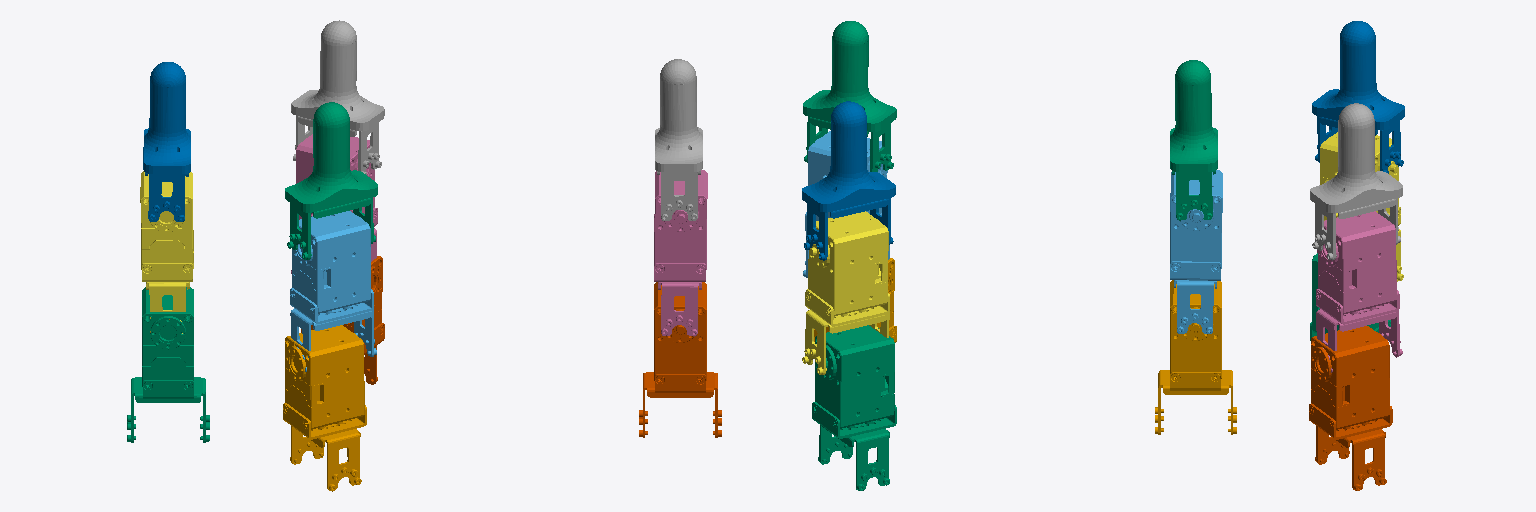
The robot description file, URDF, robot "dclaw_gripper":
<?xml version='1.0' encoding='utf-8'?>
<robot name="dclaw_gripper">
  <mujoco>
    <compiler balanceinertia="true" discardvisual="false" fusestatic="false" inertiafromgeom="false" />
  </mujoco>
  <link name="hand_root" />
  <joint name="hand_root_joint" type="fixed">
    <parent link="hand_root" />
    <child link="base_link" />
    <origin xyz="0 0 0" rpy="0 -1.57079 0" />
  </joint>
  <link name="base_link">
    <inertial>
      <origin xyz="0.0061371 0.00092103 0.0001376" rpy="0 0 0" />
      <mass value="0.23695" />
      <inertia ixx="0.00032097" ixy="-6.6887E-18" ixz="1.9851E-17" iyy="0.00016917" iyz="-1.3585E-07" izz="0.00016932" />
    </inertial>
    <visual name="base_link_base_link_visual">
      <origin xyz="0 0 0" rpy="0 0 0" />
      <geometry>
        <mesh filename="meshes/visual/base_link.obj" />
      </geometry>
    </visual>
    <collision>
      <origin xyz="0 0 0" rpy="0 0 0" />
      <geometry>
        <mesh filename="meshes/collision/base_link_cylinder_collision000.obj" />
      </geometry>
    </collision>
    <collision>
      <origin xyz="0.013 -0.059 -0.012" rpy="0 0 0" />
      <geometry>
        <box size="0.026 0.04 0.05" />
      </geometry>
    </collision>
    <collision>
      <origin xyz="0.013 0.02 0.058" rpy="1.0472 0 0" />
      <geometry>
        <box size="0.026 0.04 0.05" />
      </geometry>
    </collision>
    <collision>
      <origin xyz="0.013 0.042 -0.045" rpy="-1.0472 0 0" />
      <geometry>
        <box size="0.026 0.04 0.05" />
      </geometry>
    </collision>
  </link>
  <link name="link_f1_1">
    <inertial>
      <origin xyz="0.052937980145625 -0.00497139258776 -0.000694027511673134" rpy="0 0 0" />
      <mass value="0.0500997884944125" />
      <inertia ixx="8.46910401400073E-06" ixy="-5.59186721204179E-09" ixz="8.65556909015113E-12" iyy="1.16900209784881E-05" iyz="1.71650076915383E-09" izz="1.27968151742208E-05" />
    </inertial>
    <visual name="link_f1_1_link_1_visual">
      <origin xyz="0 0 0" rpy="0 0 0" />
      <geometry>
        <mesh filename="meshes/visual/link_1.obj" />
      </geometry>
    </visual>
    <collision>
      <origin xyz="0.05 -0.005 0" rpy="0 0 0" />
      <geometry>
        <box size="0.058 0.038 0.03" />
      </geometry>
    </collision>
    <collision>
      <origin xyz="0.013 -0.005 -0.018" rpy="0 0 0" />
      <geometry>
        <box size="0.03 0.024 0.01" />
      </geometry>
    </collision>
    <collision>
      <origin xyz="0.013 -0.005 0.018" rpy="0 0 0" />
      <geometry>
        <box size="0.03 0.024 0.01" />
      </geometry>
    </collision>
  </link>
  <joint name="joint_f1_0" type="revolute">
    <origin xyz="0.013836 0.026467 0.054269" rpy="2.618 0 0" />
    <parent link="base_link" />
    <child link="link_f1_1" />
    <axis xyz="0 -0.0015509 -1" />
    <limit lower="-0.524" upper="1.32" effort="10" velocity="100" />
  </joint>
  <link name="link_f1_2">
    <inertial>
      <origin xyz="0.0529346131214272 4.20660206008894E-05 -0.000658948595449904" rpy="0 0 0" />
      <mass value="0.0500997884943922" />
      <inertia ixx="8.46982892599337E-06" ixy="-7.79200381419549E-10" ixz="6.12478914527945E-08" iyy="1.10964732933152E-05" iyz="3.79402169890053E-09" izz="1.33896379473968E-05" />
    </inertial>
    <visual name="link_f1_2_link_2_visual">
      <origin xyz="0 0 0" rpy="0 0 0" />
      <geometry>
        <mesh filename="meshes/visual/link_2.obj" />
      </geometry>
    </visual>
    <collision>
      <origin xyz="0.05 0 0" rpy="0 0 0" />
      <geometry>
        <box size="0.058 0.036 0.03" />
      </geometry>
    </collision>
    <collision>
      <origin xyz="0.013 0.018 0" rpy="0 0 0" />
      <geometry>
        <box size="0.03 0.01 0.024" />
      </geometry>
    </collision>
    <collision>
      <origin xyz="0.013 -0.018 0" rpy="0 0 0" />
      <geometry>
        <box size="0.03 0.01 0.024" />
      </geometry>
    </collision>
  </link>
  <joint name="joint_f1_1" type="revolute">
    <origin xyz="0.068497840506843 -0.00447059066166425 -0.00069480419720909" rpy="0 0 0" />
    <parent link="link_f1_1" />
    <child link="link_f1_2" />
    <axis xyz="-0.00794039679013064 0.999967271990909 -0.00155082103229942" />
    <limit lower="-1.57" upper="1.57" effort="10" velocity="100" />
  </joint>
  <link name="link_f1_3">
    <inertial>
      <origin xyz="0.0442887582746113 0.00035235906135242 0.000434933008497021" rpy="0 0 0" />
      <mass value="0.0260028968487658" />
      <inertia ixx="3.47806502125481E-06" ixy="-2.95890268825293E-08" ixz="-5.11685971410778E-08" iyy="7.19387269621039E-06" iyz="1.90796366800334E-09" izz="8.68619204396781E-06" />
    </inertial>
    <visual name="link_f1_3_link_3_visual">
      <origin xyz="0 0 0" rpy="0 0 0" />
      <geometry>
        <mesh filename="meshes/visual/link_3.obj" />
      </geometry>
    </visual>
    <collision>
      <origin xyz="0 0 0" rpy="0 0 0" />
      <geometry>
        <mesh filename="meshes/collision/finger_tip_collision000.obj" />
      </geometry>
    </collision>
    <collision>
      <origin xyz="0.013 0.018 0" rpy="0 0 0" />
      <geometry>
        <box size="0.03 0.01 0.024" />
      </geometry>
    </collision>
    <collision>
      <origin xyz="0.013 -0.018 0" rpy="0 0 0" />
      <geometry>
        <box size="0.03 0.01 0.024" />
      </geometry>
    </collision>
  </link>
  <joint name="joint_f1_2" type="revolute">
    <origin xyz="0.0684925346596223 0.000542552150630676 -0.000853424316918899" rpy="0 0 0" />
    <parent link="link_f1_2" />
    <child link="link_f1_3" />
    <axis xyz="0.00794039679012981 -0.999967271990909 0.00155082103230192" />
    <limit lower="-1.57" upper="1.57" effort="10" velocity="100" />
  </joint>
  <link name="link_f2_1">
    <inertial>
      <origin xyz="0.0529366186747865 0.0029920957103855 -0.000173411779378921" rpy="0 0 0" />
      <mass value="0.0500997884947374" />
      <inertia ixx="8.46930770326436E-06" ixy="-2.62162459895352E-08" ixz="4.06413156611164E-11" iyy="1.16898172897379E-05" iyz="1.71681653411011E-09" izz="1.27968151737415E-05" />
    </inertial>
    <visual name="link_f2_1_link_1_visual">
      <origin xyz="0 0.008 0" rpy="0 0 0" />
      <geometry>
        <mesh filename="meshes/visual/link_1.obj" />
      </geometry>
    </visual>
    <collision>
      <origin xyz="0.05 0.003 0" rpy="0 0 0" />
      <geometry>
        <box size="0.058 0.038 0.03" />
      </geometry>
    </collision>
    <collision>
      <origin xyz="0.013 0.003 -0.018" rpy="0 0 0" />
      <geometry>
        <box size="0.03 0.024 0.01" />
      </geometry>
    </collision>
    <collision>
      <origin xyz="0.013 0.003 0.018" rpy="0 0 0" />
      <geometry>
        <box size="0.03 0.024 0.01" />
      </geometry>
    </collision>
  </link>
  <joint name="joint_f2_0" type="revolute">
    <origin xyz="0.0138355526615453 0.033321641905068 -0.0509719115789127" rpy="-2.61799387799149 0 0" />
    <parent link="base_link" />
    <child link="link_f2_1" />
    <axis xyz="0 -0.00155086992413278 -0.999998797400516" />
    <limit lower="-1.32" upper="0.524" effort="10" velocity="100" />
  </joint>
  <link name="link_f2_2">
    <inertial>
      <origin xyz="0.0529373376292636 0.000382054108649318 -3.9604226158757E-05" rpy="0 0 0" />
      <mass value="0.0500997884947384" />
      <inertia ixx="8.46918825148626E-06" ixy="-1.76972865703743E-08" ixz="3.65389057121657E-09" iyy="1.10963536600261E-05" iyz="3.59507089481827E-09" izz="1.33903982552316E-05" />
    </inertial>
    <visual name="link_f2_2_link_2_visual">
      <origin xyz="0 0 0" rpy="0 0 0" />
      <geometry>
        <mesh filename="meshes/visual/link_2.obj" />
      </geometry>
    </visual>
    <collision>
      <origin xyz="0.05 0 0" rpy="0 0 0" />
      <geometry>
        <box size="0.058 0.036 0.03" />
      </geometry>
    </collision>
    <collision>
      <origin xyz="0.013 0.018 0" rpy="0 0 0" />
      <geometry>
        <box size="0.03 0.01 0.024" />
      </geometry>
    </collision>
    <collision>
      <origin xyz="0.013 -0.018 0" rpy="0 0 0" />
      <geometry>
        <box size="0.03 0.01 0.024" />
      </geometry>
    </collision>
  </link>
  <joint name="joint_f2_1" type="revolute">
    <origin xyz="0.0684929530993347 0.00359252558891102 -0.000174342974942968" rpy="0 0 0" />
    <parent link="link_f2_1" />
    <child link="link_f2_2" />
    <axis xyz="-0.014343581886071 0.999895923061994 -0.00155071037926452" />
    <limit lower="-1.57" upper="1.57" effort="10" velocity="100" />
  </joint>
  <link name="link_f2_3">
    <inertial>
      <origin xyz="0.0442877261541773 0.000635363411305337 3.24374268249883E-05" rpy="0 0 0" />
      <mass value="0.0260028967625064" />
      <inertia ixx="3.47809482432761E-06" ixy="-5.3314327919684E-08" ixz="-3.84829965834772E-09" iyy="7.19334337797395E-06" iyz="2.25982162121694E-09" izz="8.68669162883216E-06" />
    </inertial>
    <visual name="link_f2_3_link_3_visual">
      <origin xyz="0 0 0" rpy="0 0 0" />
      <geometry>
        <mesh filename="meshes/visual/link_3.obj" />
      </geometry>
    </visual>
    <collision>
      <origin xyz="0 0 0" rpy="0 0 0" />
      <geometry>
        <mesh filename="meshes/collision/finger_tip_collision000.obj" />
      </geometry>
    </collision>
    <collision>
      <origin xyz="0.013 0.018 0" rpy="0 0 0" />
      <geometry>
        <box size="0.03 0.01 0.024" />
      </geometry>
    </collision>
    <collision>
      <origin xyz="0.013 -0.018 0" rpy="0 0 0" />
      <geometry>
        <box size="0.03 0.01 0.024" />
      </geometry>
    </collision>
  </link>
  <joint name="joint_f2_2" type="revolute">
    <origin xyz="0.0684929345007509 0.000982455622303688 -5.20041001613319E-05" rpy="0 0 0" />
    <parent link="link_f2_2" />
    <child link="link_f2_3" />
    <axis xyz="0.0143435818860688 -0.999895923061994 0.0015507103792663" />
    <limit lower="-1.57" upper="1.57" effort="10" velocity="100" />
  </joint>
  <link name="link_f3_1">
    <inertial>
      <origin xyz="0.052937756130489 0.000210782387668487 -0.000208618910146202" rpy="0 0 0" />
      <mass value="0.0500997884940019" />
      <inertia ixx="8.46914437459628E-06" ixy="-1.26990243942859E-08" ixz="1.96778519263691E-11" iyy="1.16899806178808E-05" iyz="1.71656331383852E-09" izz="1.27968151741214E-05" />
    </inertial>
    <visual name="link_f3_1_link_1_visual">
      <origin xyz="0 0.005 0" rpy="0 0 0" />
      <geometry>
        <mesh filename="meshes/visual/link_1.obj" />
      </geometry>
    </visual>
    <collision>
      <origin xyz="0.05 0 0" rpy="0 0 0" />
      <geometry>
        <box size="0.058 0.038 0.03" />
      </geometry>
    </collision>
    <collision>
      <origin xyz="0.013 0 -0.018" rpy="0 0 0" />
      <geometry>
        <box size="0.03 0.024 0.01" />
      </geometry>
    </collision>
    <collision>
      <origin xyz="0.013 0 0.018" rpy="0 0 0" />
      <geometry>
        <box size="0.03 0.024 0.01" />
      </geometry>
    </collision>
  </link>
  <joint name="joint_f3_0" type="revolute">
    <origin xyz="0.0138355526615456 -0.05963321136 0.00022432666062458" rpy="1.5707963267949 0 0" />
    <parent link="base_link" />
    <child link="link_f3_1" />
    <axis xyz="0 -0.00155086992413289 -0.999998797400516" />
    <limit lower="-1.32" upper="0.524" effort="10" velocity="100" />
  </joint>
  <link name="link_f3_2">
    <inertial>
      <origin xyz="0.0529381098100723 0.000160241314829807 0.000200253757474567" rpy="0 0 0" />
      <mass value="0.0500997884940274" />
      <inertia ixx="8.46915385113344E-06" ixy="-6.70459090239306E-09" ixz="-1.86284718319264E-08" iyy="1.10964555162285E-05" iyz="3.44406945089208E-09" izz="1.33903307992363E-05" />
    </inertial>
    <visual name="link_f3_2_link_2_visual">
      <origin xyz="0 0 0" rpy="0 0 0" />
      <geometry>
        <mesh filename="meshes/visual/link_2.obj" />
      </geometry>
    </visual>
    <collision>
      <origin xyz="0.05 0 0" rpy="0 0 0" />
      <geometry>
        <box size="0.058 0.036 0.03" />
      </geometry>
    </collision>
    <collision>
      <origin xyz="0.013 0.018 0" rpy="0 0 0" />
      <geometry>
        <box size="0.03 0.01 0.024" />
      </geometry>
    </collision>
    <collision>
      <origin xyz="0.013 -0.018 0" rpy="0 0 0" />
      <geometry>
        <box size="0.03 0.01 0.024" />
      </geometry>
    </collision>
  </link>
  <joint name="joint_f3_1" type="revolute">
    <origin xyz="0.0684964735450448 0.000745917286560926 -0.000209448841640203" rpy="0 0 0" />
    <parent link="link_f3_1" />
    <child link="link_f3_2" />
    <axis xyz="-0.0101468979551261 0.99994731636822 -0.0015507900836953" />
    <limit lower="-1.57" upper="1.57" effort="10" velocity="100" />
  </joint>
  <link name="link_f3_3">
    <inertial>
      <origin xyz="0.0442682768834517 0.000447052534982395 -0.00138825632794681" rpy="0 0 0" />
      <mass value="0.0260028964716332" />
      <inertia ixx="3.48282165541386E-06" ixy="-3.7405200668484E-08" ixz="1.6316576122808E-07" iyy="7.19373134234755E-06" iyz="3.96287130820337E-09" izz="8.68157655036292E-06" />
    </inertial>
    <visual name="link_f3_3_link_3_visual">
      <origin xyz="0 0 0" rpy="0 0 0" />
      <geometry>
        <mesh filename="meshes/visual/link_3.obj" />
      </geometry>
    </visual>
    <collision>
      <origin xyz="0 0 0" rpy="0 0 0" />
      <geometry>
        <mesh filename="meshes/collision/finger_tip_collision000.obj" />
      </geometry>
    </collision>
    <collision>
      <origin xyz="0.013 0.018 0" rpy="0 0 0" />
      <geometry>
        <box size="0.03 0.01 0.024" />
      </geometry>
    </collision>
    <collision>
      <origin xyz="0.013 -0.018 0" rpy="0 0 0" />
      <geometry>
        <box size="0.03 0.01 0.024" />
      </geometry>
    </collision>
  </link>
  <joint name="joint_f3_2" type="revolute">
    <origin xyz="0.068496 0.00069546 0.00025837" rpy="0 0 0" />
    <parent link="link_f3_2" />
    <child link="link_f3_3" />
    <axis xyz="-0.010147 0.99995 -0.0015508" />
    <limit lower="-1.57" upper="1.57" effort="10" velocity="100" />
  </joint>
  <link name="link_f1_head" />
  <link name="link_f2_head" />
  <link name="link_f3_head" />
  <joint name="joint_f1_head" type="fixed">
    <parent link="link_f1_3" />
    <child link="link_f1_head" />
    <origin rpy="0 0 0" xyz="0.084 0 0" />
  </joint>
  <joint name="joint_f2_head" type="fixed">
    <parent link="link_f2_3" />
    <child link="link_f2_head" />
    <origin rpy="0 0 0" xyz="0.084 0 0" />
  </joint>
  <joint name="joint_f3_head" type="fixed">
    <parent link="link_f3_3" />
    <child link="link_f3_head" />
    <origin rpy="0 0 0" xyz="0.084 0 0" />
  </joint>
</robot>

--- Render facts (derived) ---
The picture shows the robot from 3 angles, left to right: view 1: azimuth 30°, elevation 25°; view 2: azimuth 150°, elevation 25°; view 3: azimuth 270°, elevation 25°; orthographic projection.
Robot: dclaw_gripper — 14 links, 13 joints (9 revolute, 4 fixed); root link hand_root; default pose: every joint at zero.
Links seen in each view (by area): view 1: link_f3_1, link_f3_2, link_f3_3, link_f1_1, link_f1_3, link_f2_3, link_f1_2, link_f2_1, link_f2_2; view 2: link_f1_1, link_f1_2, link_f1_3, link_f2_2, link_f2_3, link_f3_3, link_f2_1, link_f3_2, link_f3_1; view 3: link_f2_1, link_f2_2, link_f2_3, link_f3_2, link_f3_3, link_f1_3, link_f3_1, link_f1_2, link_f1_1.
Boxes of the visible links, x1,y1,x2,y2 form: link_f3_1: (283, 325, 366, 491); link_f3_2: (290, 211, 376, 371); link_f3_3: (285, 102, 377, 259); link_f1_1: (127, 287, 209, 442); link_f1_3: (143, 62, 190, 221); link_f2_3: (291, 20, 384, 174); link_f1_2: (140, 171, 193, 333); link_f2_1: (301, 256, 384, 384); link_f2_2: (291, 134, 377, 273); link_f1_1: (812, 325, 896, 490); link_f1_2: (802, 211, 889, 374); link_f1_3: (802, 101, 895, 260); link_f2_2: (654, 170, 707, 336); link_f2_3: (655, 59, 702, 220); link_f3_3: (803, 21, 896, 171); link_f2_1: (639, 282, 721, 437); link_f3_2: (803, 131, 889, 277); link_f3_1: (814, 258, 896, 342); link_f2_1: (1309, 326, 1392, 490); link_f2_2: (1316, 211, 1402, 372); link_f2_3: (1310, 103, 1402, 260); link_f3_2: (1170, 170, 1222, 333); link_f3_3: (1170, 60, 1217, 220); link_f1_3: (1312, 21, 1404, 173); link_f3_1: (1155, 280, 1236, 434); link_f1_2: (1320, 132, 1403, 281); link_f1_1: (1310, 253, 1390, 340).
Bounding box of the posed robot: 0.1579 × 0.1372 × 0.2232 m (x, y, z).
Meshes: 4 distinct files referenced, 9 mesh visuals loaded (3 OBJ); not drawn: 1 (reference not matched to a file when rendering).
